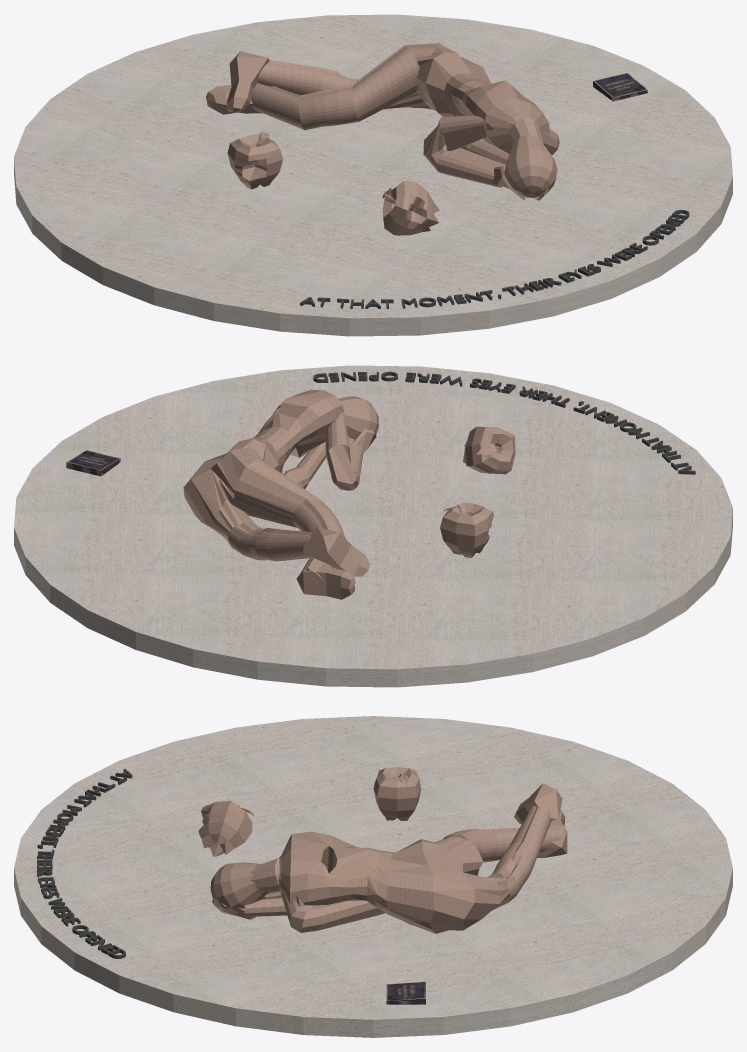
The model's file is statue.fbx.
3 renders of one model, top to bottom at view 1: azimuth 30°, elevation 25°; view 2: azimuth 150°, elevation 25°; view 3: azimuth 270°, elevation 25°, orthographic.
Parts seen in each view (by area): view 1: statue; view 2: statue; view 3: statue.
Boxes of the visible parts, x1,y1,x2,y2 form: statue: [14, 14, 732, 336]; statue: [14, 365, 732, 687]; statue: [14, 716, 732, 1037].
Bounding box in the file's own units: 216 × 31.16 × 216.
4 materials, 3 textured.
